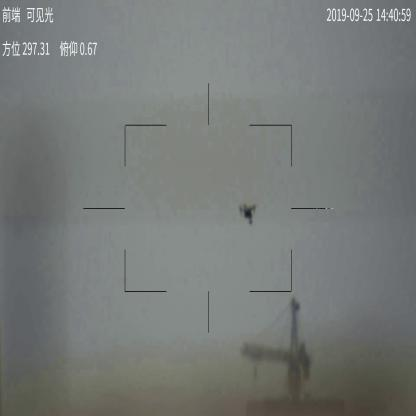uav: (236, 200, 257, 225)
